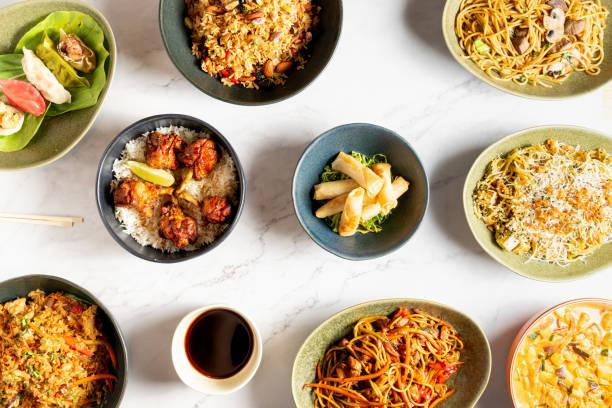Braised Crucian Carp: (462, 125, 609, 281), (292, 297, 492, 405), (95, 114, 241, 261), (292, 122, 426, 260), (441, 0, 606, 99)
